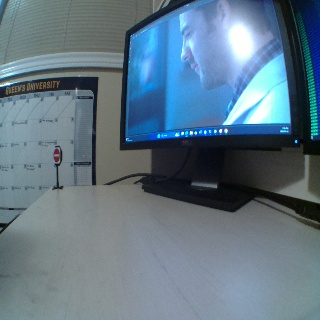sign_noentry: (52, 147, 60, 163)
